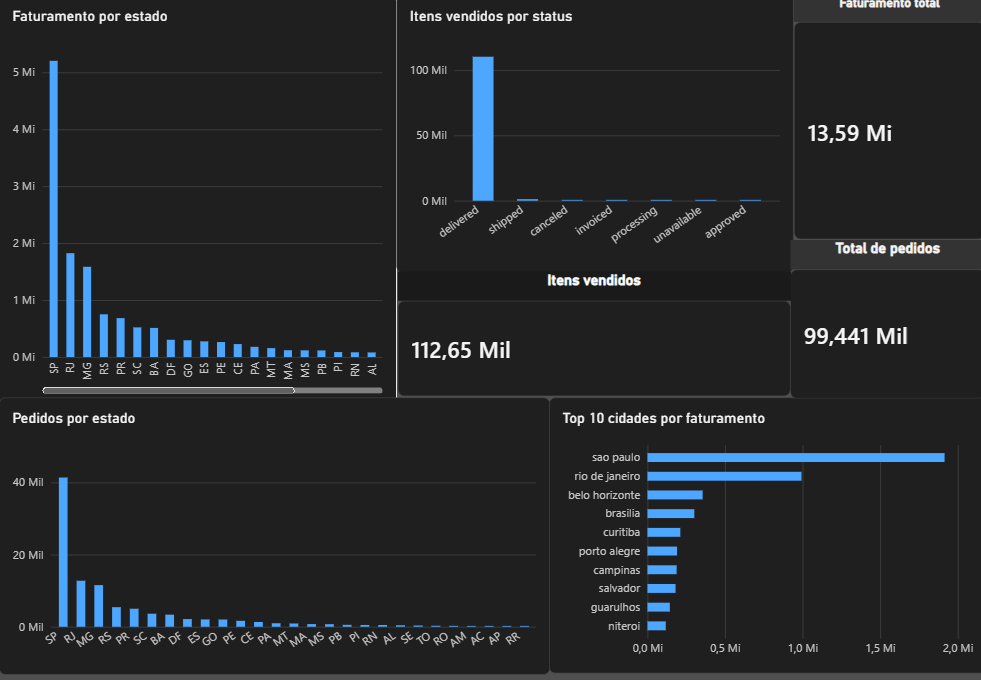

What the dashboard file says about the page in this screenshot:
{"tool":"powerbi","page":{"name":"Página 1","canvas":[1920,1080],"ordinal":0},"visuals":[{"type":"columnChart","title":"Faturamento por estado","fields":{"Category":["olist_customers_dataset.customer_state"],"Y":["Sum(olist_order_items_dataset.price)"]},"box":[0,0,495.7,514.3],"z":0},{"type":"columnChart","title":"Pedidos por estado","fields":{"Category":["olist_customers_dataset.customer_state"],"Y":["Count(olist_order_items_dataset.order_id)"]},"box":[0,502.2,687.1,345.7],"z":1000},{"type":"barChart","title":"Top 10 cidades por faturamento","fields":{"Category":["olist_customers_dataset.customer_city"],"Y":["Sum(olist_order_items_dataset.price)"]},"box":[685.4,502.2,546,344],"z":2000},{"type":"columnChart","title":"Itens vendidos por status","fields":{"Category":["olist_orders_dataset.order_status"],"Y":["CountNonNull(olist_order_items_dataset.order_item_id)"]},"box":[496.1,0,495.5,346.4],"z":3000},{"type":"cardVisual","title":"Faturamento total","fields":{"Data":["Sum(olist_order_items_dataset.price)"]},"box":[991.7,0,238.3,305],"z":4000},{"type":"cardVisual","title":"Total de pedidos","fields":{"Data":["Count(olist_orders_dataset.order_id)"]},"box":[986.7,305,243.3,198.3],"z":5000},{"type":"cardVisual","title":"Itens vendidos","fields":{"Data":["CountNonNull(olist_order_items_dataset.order_item_id)"]},"box":[496.7,345,490,156.7],"z":6000}]}

Visuals, with their boxes on the page's 1920x1080 design canvas (x1, y1, x2, y2). These are canvas units, not pixel positions in the 981x680 screenshot, which may show the page scaled, cropped or inside an application window:
"Faturamento por estado" columnChart: (x1=0, y1=0, x2=496, y2=514)
"Pedidos por estado" columnChart: (x1=0, y1=502, x2=687, y2=848)
"Top 10 cidades por faturamento" barChart: (x1=685, y1=502, x2=1231, y2=846)
"Itens vendidos por status" columnChart: (x1=496, y1=0, x2=992, y2=346)
"Faturamento total" cardVisual: (x1=992, y1=0, x2=1230, y2=305)
"Total de pedidos" cardVisual: (x1=987, y1=305, x2=1230, y2=503)
"Itens vendidos" cardVisual: (x1=497, y1=345, x2=987, y2=502)
